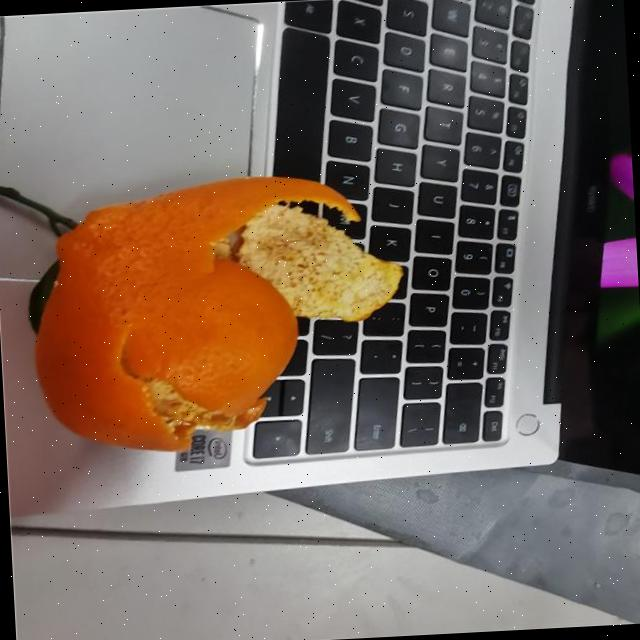orange-peel: (24, 168, 373, 459)
